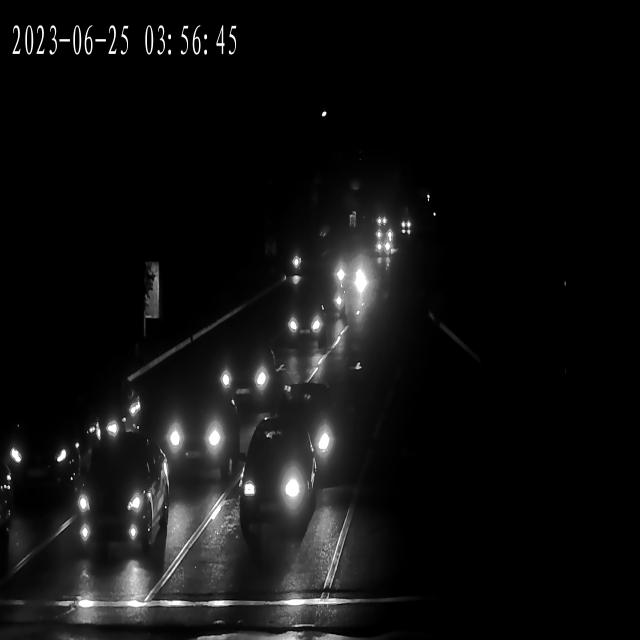Car: (69, 438, 171, 556), (140, 386, 238, 482), (230, 433, 314, 540), (261, 385, 343, 480), (2, 414, 83, 506), (80, 378, 146, 455), (216, 340, 279, 400), (282, 301, 325, 342), (333, 254, 373, 292), (0, 442, 13, 558), (314, 278, 346, 321), (372, 237, 392, 256), (376, 240, 394, 258), (376, 228, 395, 242), (399, 219, 416, 233), (376, 223, 392, 237), (396, 219, 412, 232), (375, 214, 390, 227)
